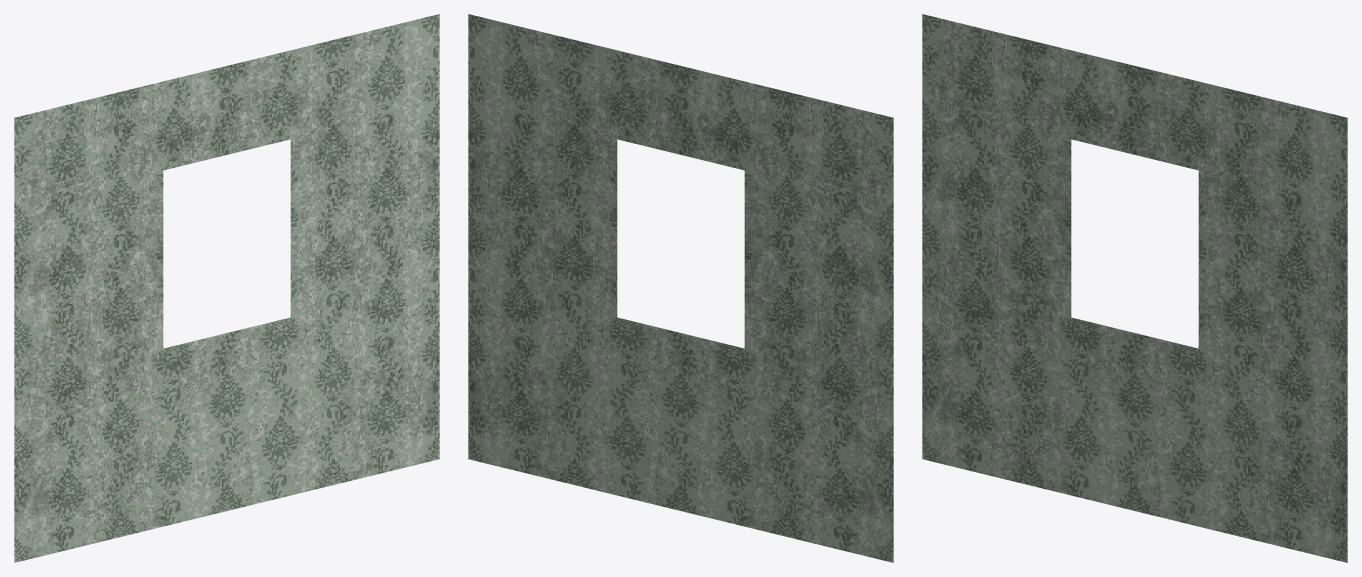
Rendered from Modular_Surface_02.glb.
3 renders of one model, left to right at view 1: azimuth 30°, elevation 25°; view 2: azimuth 150°, elevation 25°; view 3: azimuth 330°, elevation 25°, orthographic.
Parts seen in each view (by area): view 1: Modular_Surface_02; view 2: Modular_Surface_02; view 3: Modular_Surface_02.
Part boxes in pixels (<box>): Modular_Surface_02: <box>14,14,439,562</box>; Modular_Surface_02: <box>468,14,893,562</box>; Modular_Surface_02: <box>922,14,1347,562</box>.
Bounding box in the file's own units: 3 × 3 × 1.31e-07.
1 material, 1 textured.
